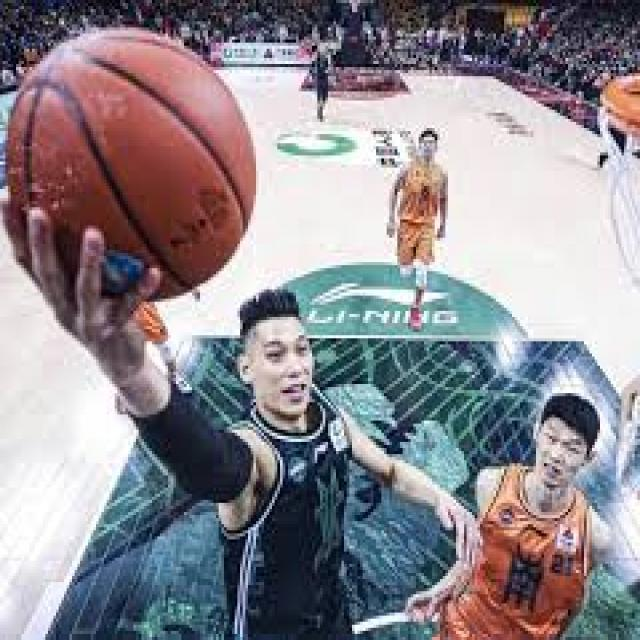rim: (8, 31, 254, 302)
